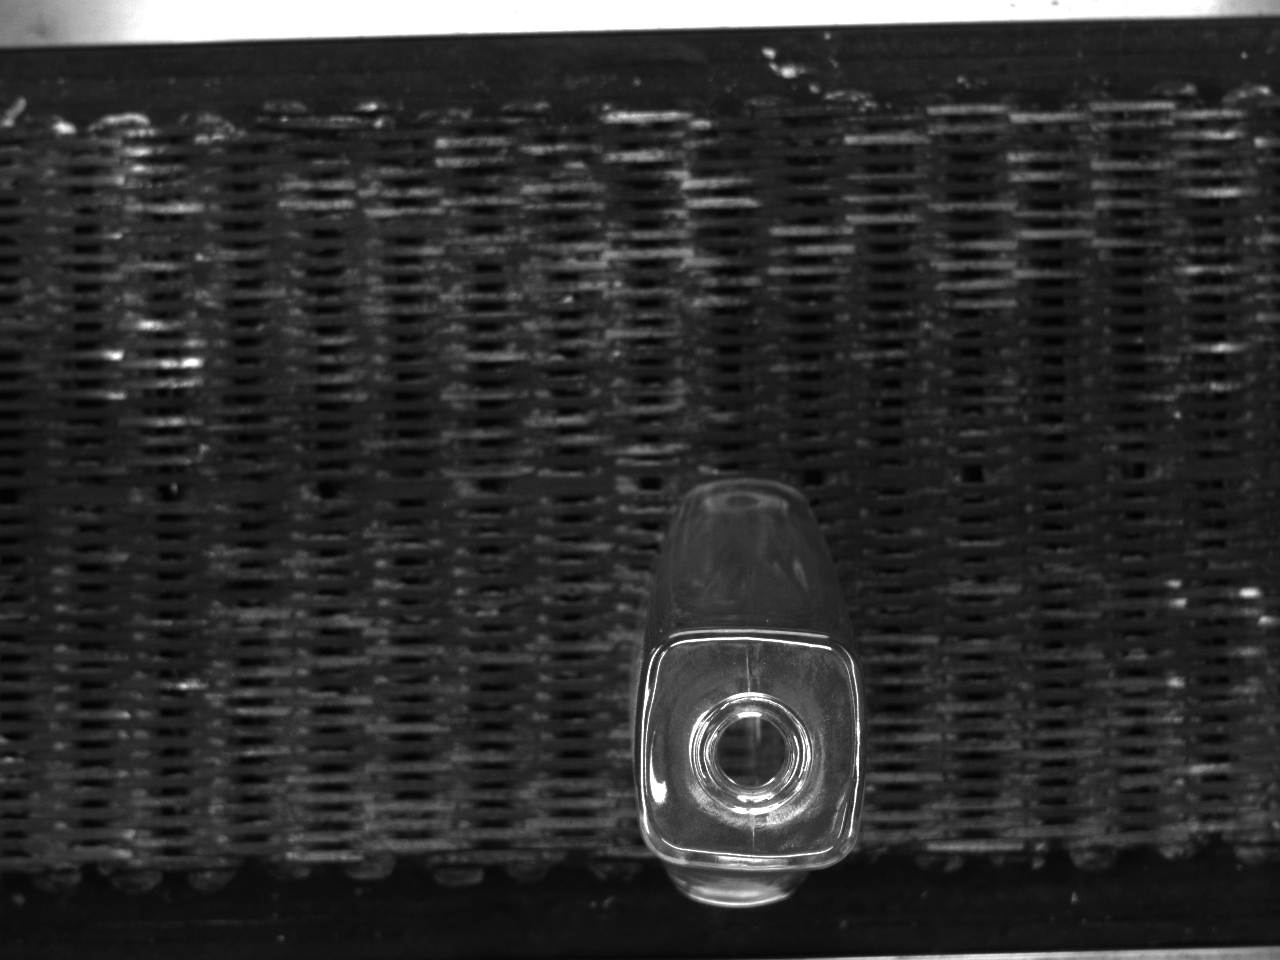bottleneck: (694, 692, 812, 814)
